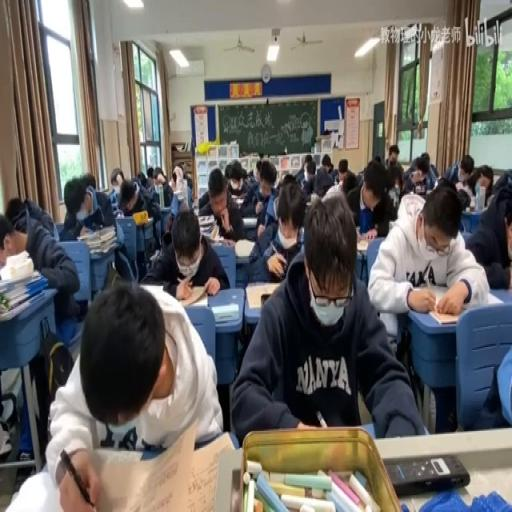calculator: (89, 422, 233, 510), (2, 468, 62, 509), (436, 282, 506, 310), (0, 289, 45, 320), (0, 266, 40, 292), (64, 327, 83, 363), (210, 300, 238, 322), (234, 236, 256, 258), (426, 309, 458, 324), (182, 292, 208, 308), (132, 209, 150, 225), (355, 238, 370, 252), (230, 194, 245, 208), (209, 222, 219, 242), (242, 215, 258, 226), (197, 214, 213, 224), (111, 184, 121, 200), (219, 238, 235, 248), (149, 248, 159, 260), (308, 193, 320, 202), (192, 199, 198, 215)
paper: (230, 192, 420, 441), (0, 196, 82, 456), (142, 208, 228, 297), (465, 175, 512, 289), (346, 155, 396, 240), (466, 340, 511, 431), (60, 173, 118, 242), (114, 175, 160, 256), (244, 160, 278, 230), (400, 151, 436, 196), (149, 165, 175, 206), (224, 157, 249, 199), (296, 155, 322, 193), (4, 196, 26, 228), (322, 181, 344, 202), (384, 144, 401, 170), (341, 171, 357, 195), (434, 175, 458, 189), (109, 166, 123, 190), (459, 158, 474, 180), (456, 189, 470, 211), (174, 190, 188, 212), (170, 165, 182, 188), (479, 168, 492, 189), (82, 172, 96, 191), (320, 154, 333, 172), (280, 174, 296, 188), (252, 158, 261, 180), (429, 160, 438, 178), (144, 180, 155, 194), (136, 171, 146, 186), (338, 158, 347, 173), (146, 165, 154, 181), (394, 176, 402, 192), (184, 174, 192, 189), (374, 154, 380, 164), (154, 174, 160, 184)
person: (384, 452, 470, 494), (260, 291, 270, 303)
